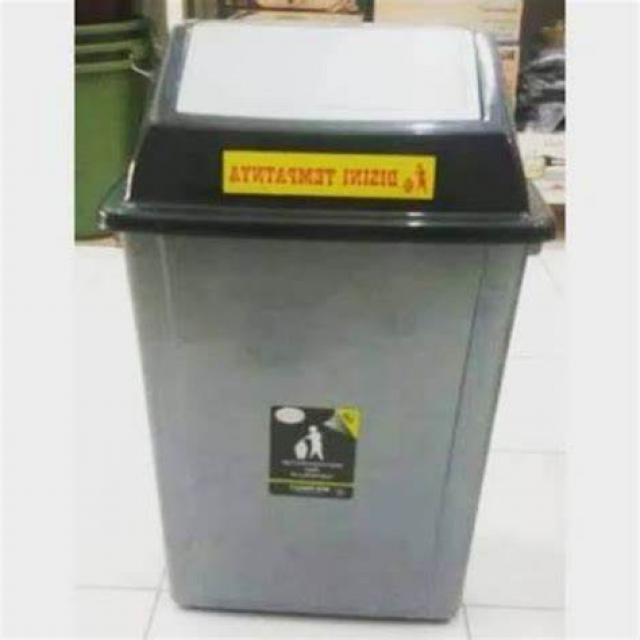garbage container: (36, 5, 568, 622)
